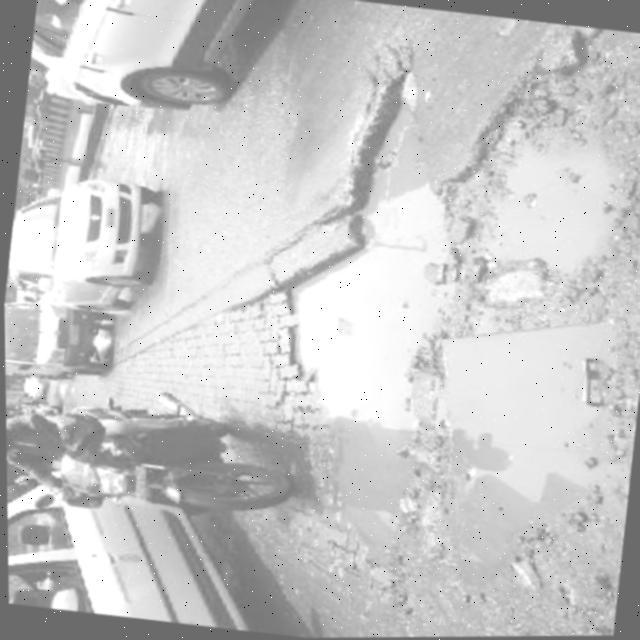pothole: (234, 38, 491, 572), (397, 298, 640, 610), (434, 70, 640, 298)
